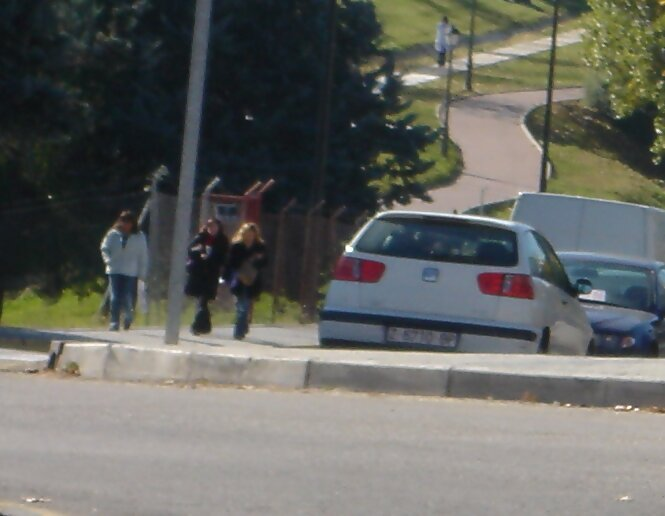person: (101, 207, 149, 331), (186, 216, 226, 337)
